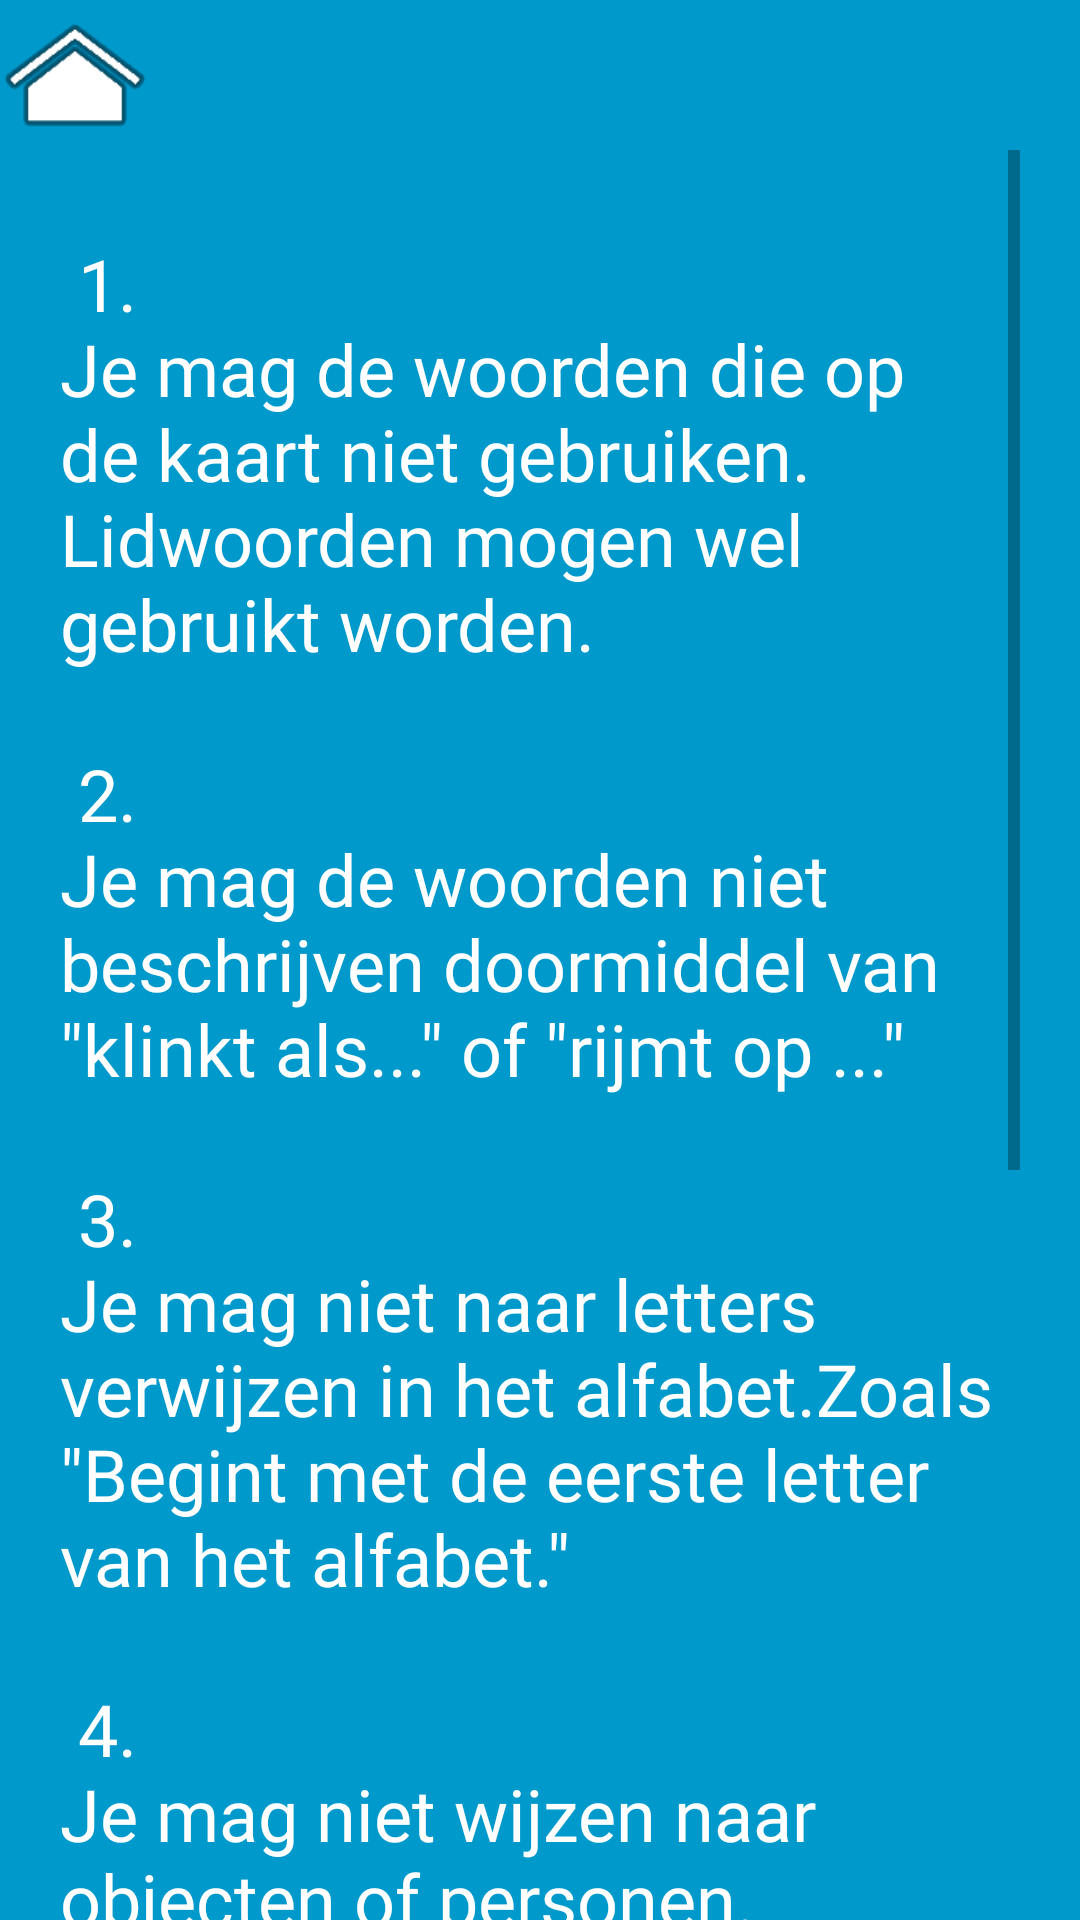

Point at icon controls on the screen. Image size 1080px x 1920px, points as [x,y].
home: [75,75]
